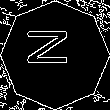N_E: (30, 35, 80, 75)
